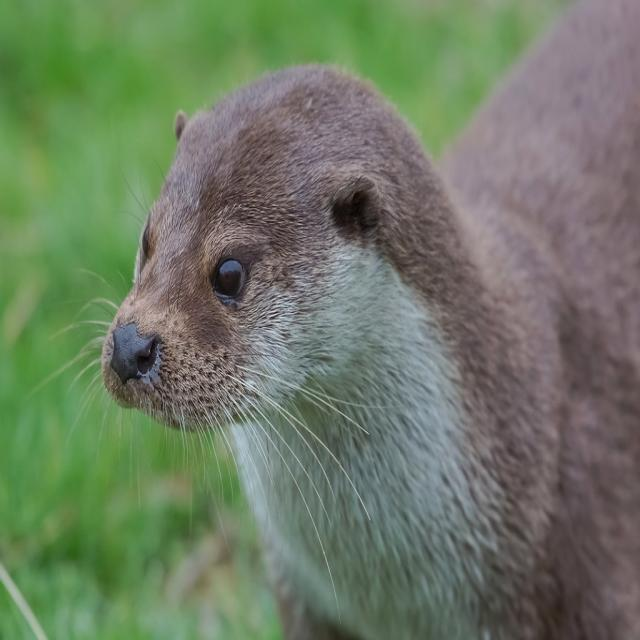otter: (105, 67, 466, 449)
